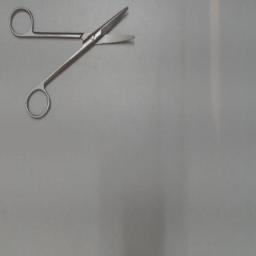Curved Mayo Scissors: (8, 2, 144, 124)
